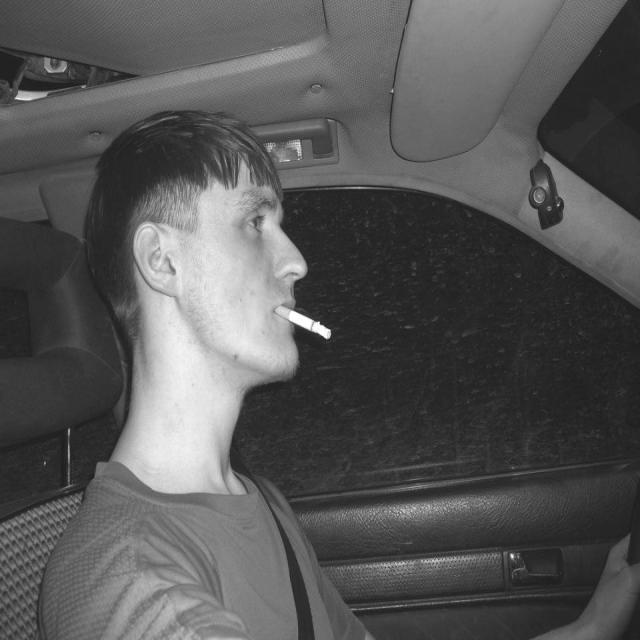Cigarette: (274, 304, 338, 344)
